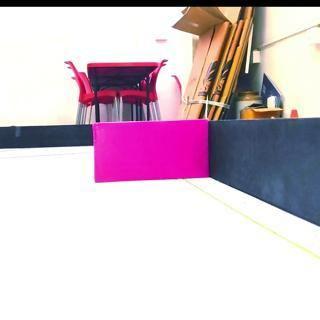xparking: (90, 118, 209, 181)
